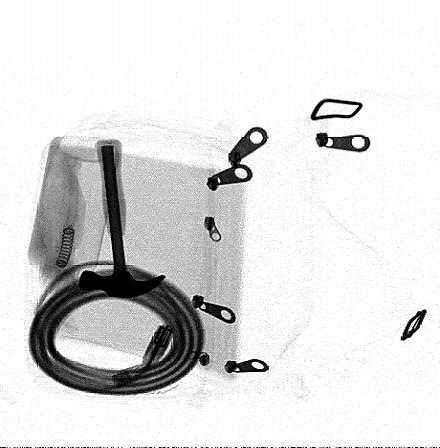Hammer: (77, 139, 167, 298)
